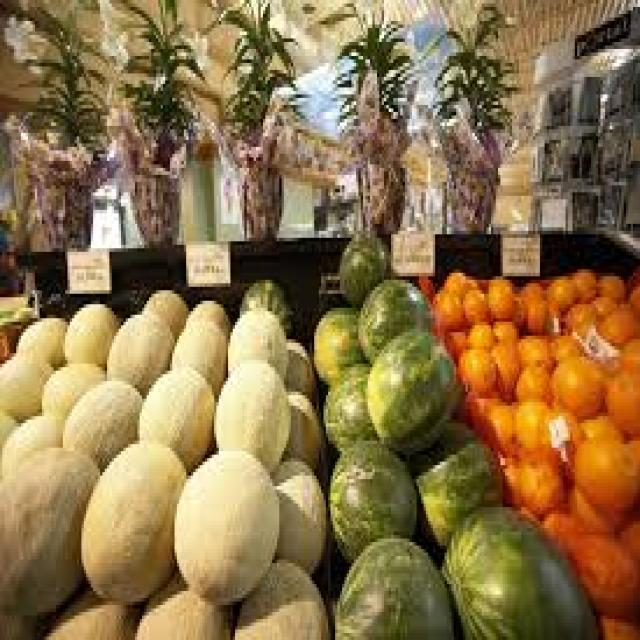organic waste: (440, 500, 593, 637), (79, 434, 193, 605), (0, 444, 98, 612), (172, 448, 277, 594), (109, 0, 200, 157), (331, 528, 449, 637), (14, 0, 105, 140), (410, 416, 500, 546), (366, 325, 456, 455), (326, 437, 416, 560), (428, 0, 514, 122), (221, 3, 296, 122), (135, 360, 214, 469), (212, 360, 286, 469), (232, 552, 324, 636), (335, 3, 407, 108), (563, 528, 638, 626), (128, 566, 230, 636), (60, 378, 140, 462), (354, 273, 431, 360), (268, 451, 324, 567), (37, 580, 140, 636), (104, 311, 174, 392), (570, 437, 638, 514), (224, 301, 286, 374), (321, 357, 377, 437), (310, 297, 363, 378), (338, 224, 387, 301), (168, 318, 221, 388), (0, 412, 65, 468), (40, 357, 104, 412), (549, 350, 605, 412), (0, 353, 54, 416), (535, 507, 603, 556), (63, 301, 119, 360), (510, 448, 566, 503), (235, 276, 291, 329), (14, 311, 65, 367), (279, 384, 319, 454), (602, 353, 638, 430), (140, 287, 186, 339), (566, 479, 614, 528), (547, 402, 579, 469), (509, 353, 552, 402), (279, 332, 312, 395), (184, 298, 233, 340), (479, 395, 516, 448), (489, 339, 521, 399), (514, 392, 552, 441), (452, 342, 496, 384), (2, 14, 40, 59), (594, 301, 638, 339), (463, 384, 498, 426), (428, 287, 463, 329), (98, 14, 126, 63), (526, 294, 559, 332), (616, 500, 638, 556), (0, 608, 44, 636), (179, 24, 207, 66), (580, 409, 616, 441), (547, 329, 577, 367), (598, 608, 638, 636), (484, 273, 512, 311), (517, 332, 549, 364), (461, 287, 489, 322), (589, 269, 619, 301), (496, 448, 514, 497), (466, 315, 494, 346), (572, 262, 594, 301), (545, 269, 570, 301), (558, 301, 600, 318), (589, 287, 614, 315), (440, 270, 475, 290), (512, 496, 535, 524), (491, 318, 519, 336), (614, 332, 638, 353), (624, 430, 638, 462), (517, 280, 533, 308), (621, 283, 638, 308), (444, 325, 458, 346), (621, 266, 638, 283)
